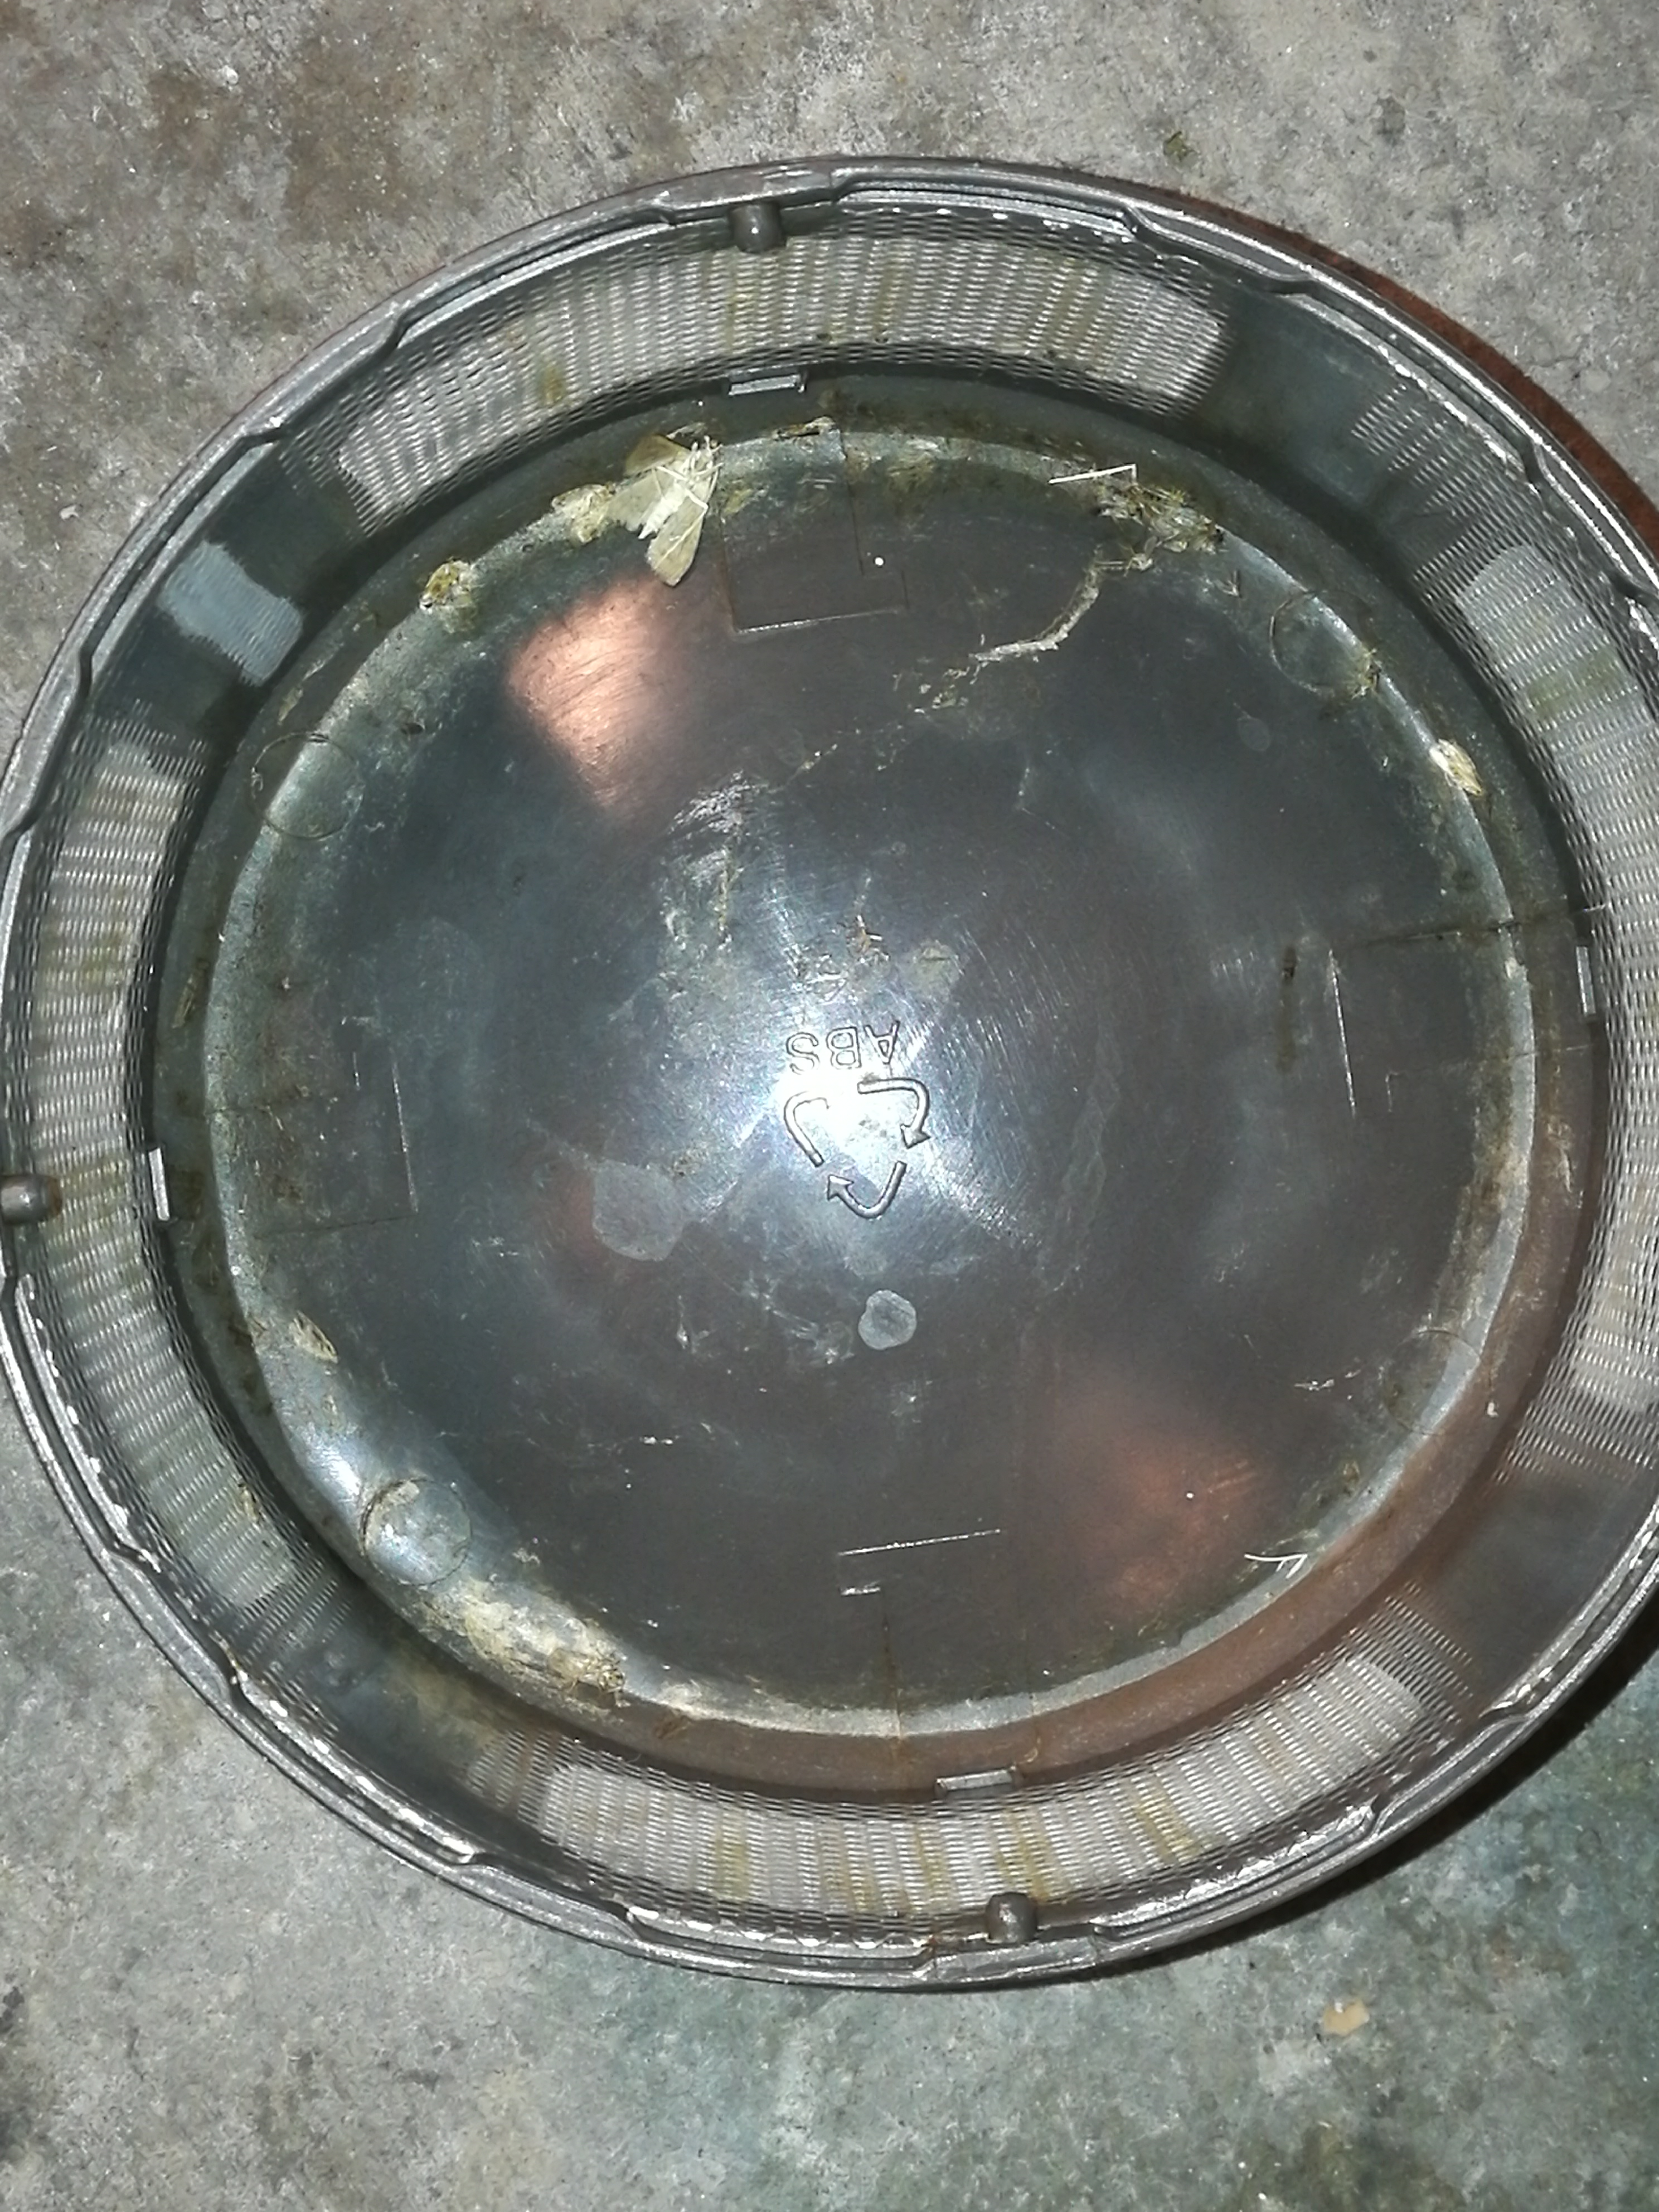mosquito: (1429, 737, 1481, 794), (418, 563, 462, 615)
moth: (601, 435, 718, 587), (549, 1618, 622, 1691), (1131, 482, 1197, 552), (552, 481, 617, 547)
